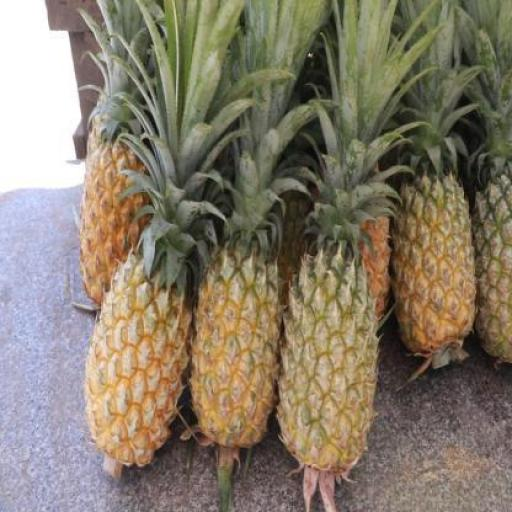------------------------------: (276, 261, 373, 464)
Pineapple - v8 v1: (84, 251, 192, 462), (193, 255, 286, 450), (77, 122, 154, 310), (394, 182, 474, 353)
